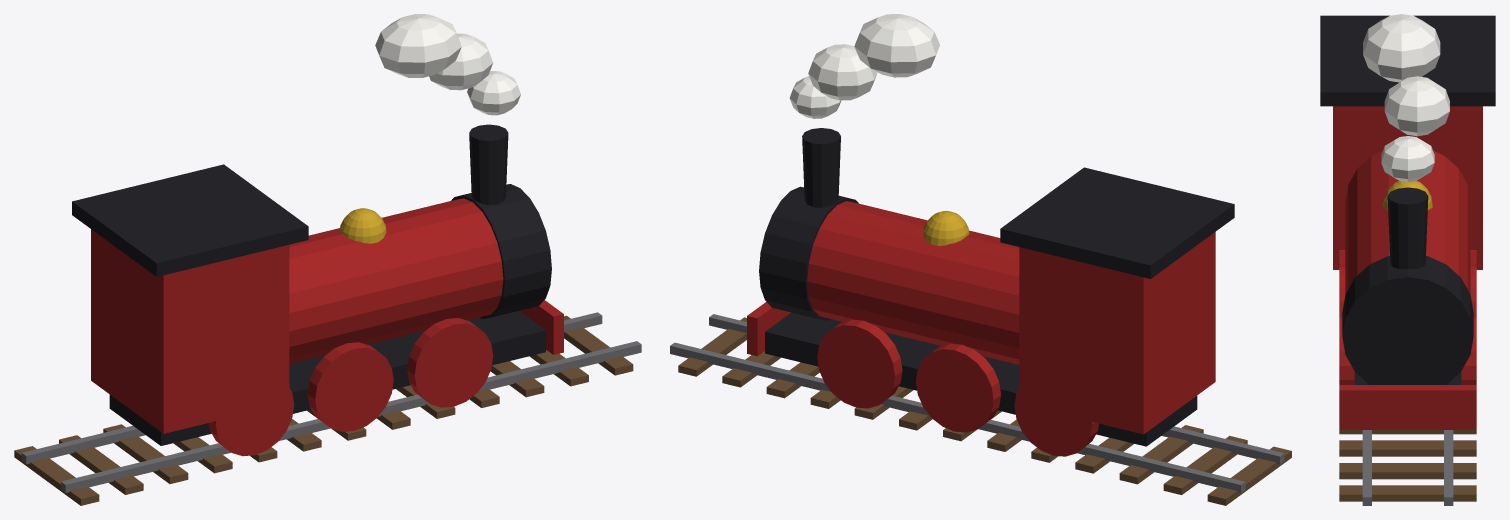
The model's file is locomotive-red.glb.
3 renders of one model, left to right at view 1: azimuth 30°, elevation 25°; view 2: azimuth 150°, elevation 25°; view 3: azimuth 270°, elevation 25°, orthographic. The views are drawn at different scales.
Size of the model in its own units: 2.2 by 1.37 by 0.56.
